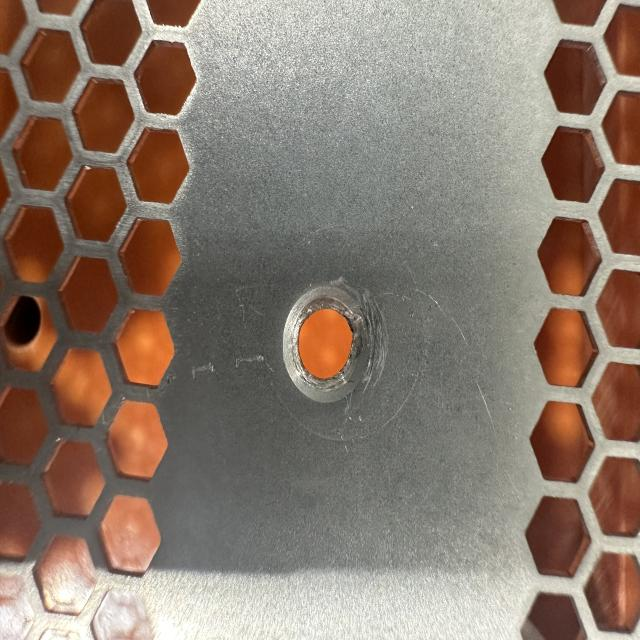Missing screw: (274, 271, 384, 416)
